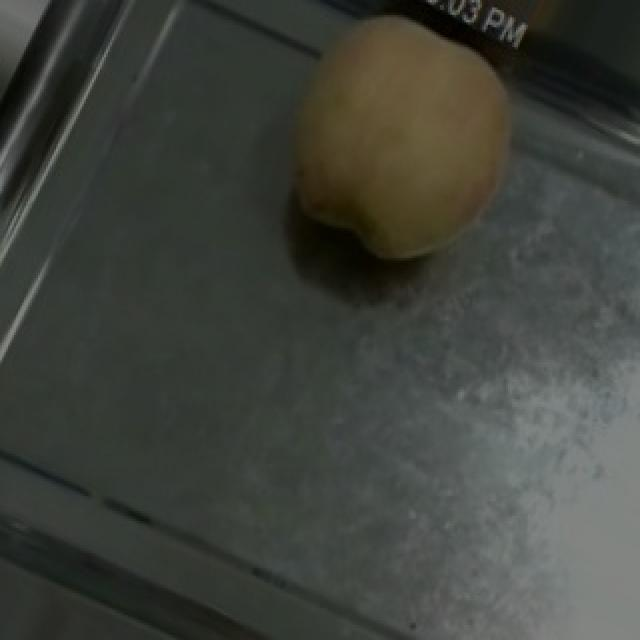Fruit: (236, 0, 556, 305)
